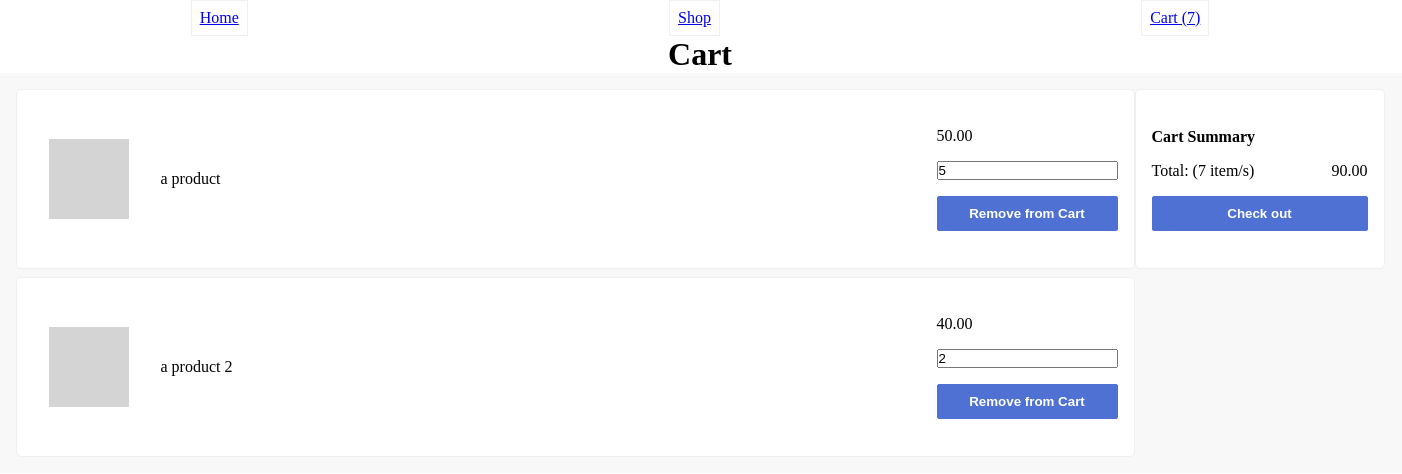
Test: CartItem component › when there are multiple items in the cart › when clicking the Remove from Cart button on one of the items › subtracts the item quantity from the cart navigation menu
Click the button "Remove from Cart" below "50.00": (1027, 214) 936,196 -> 1118,231
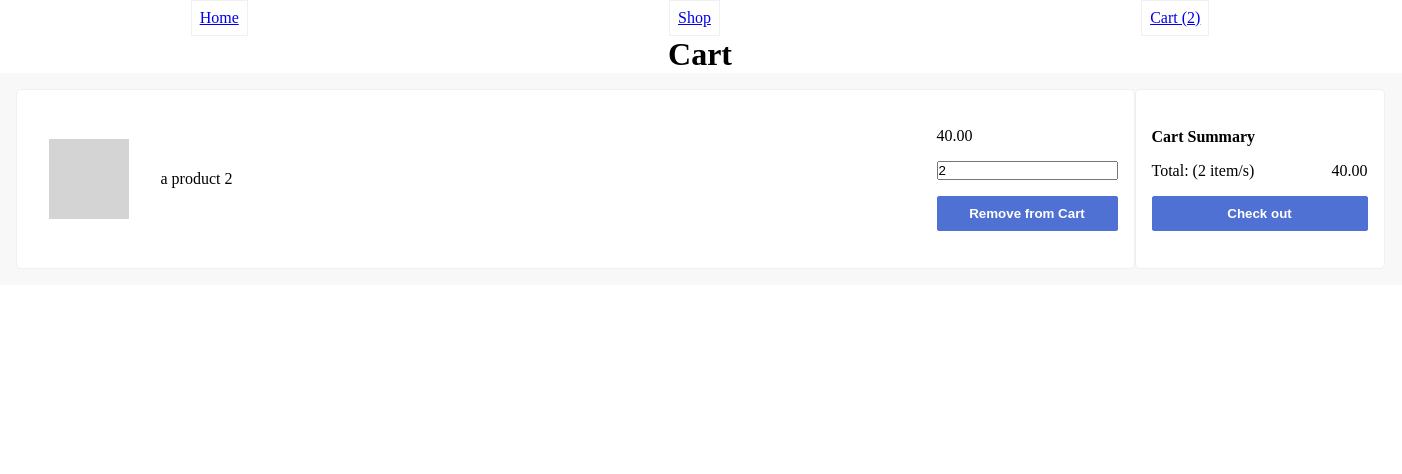
Now the link named "Cart (7)" reads "Cart (2)", box 1141,0 -> 1209,36
